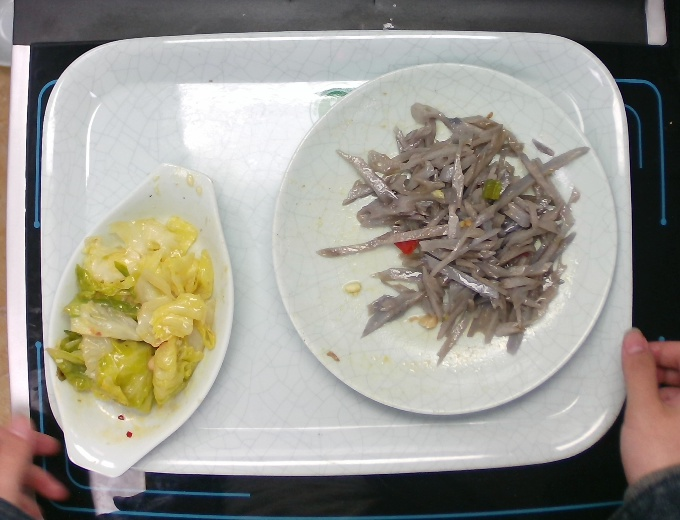JYsf-Da_Yuan_Pan: (266, 56, 629, 422)
JYsf-Yu_Pan: (42, 160, 241, 480)
